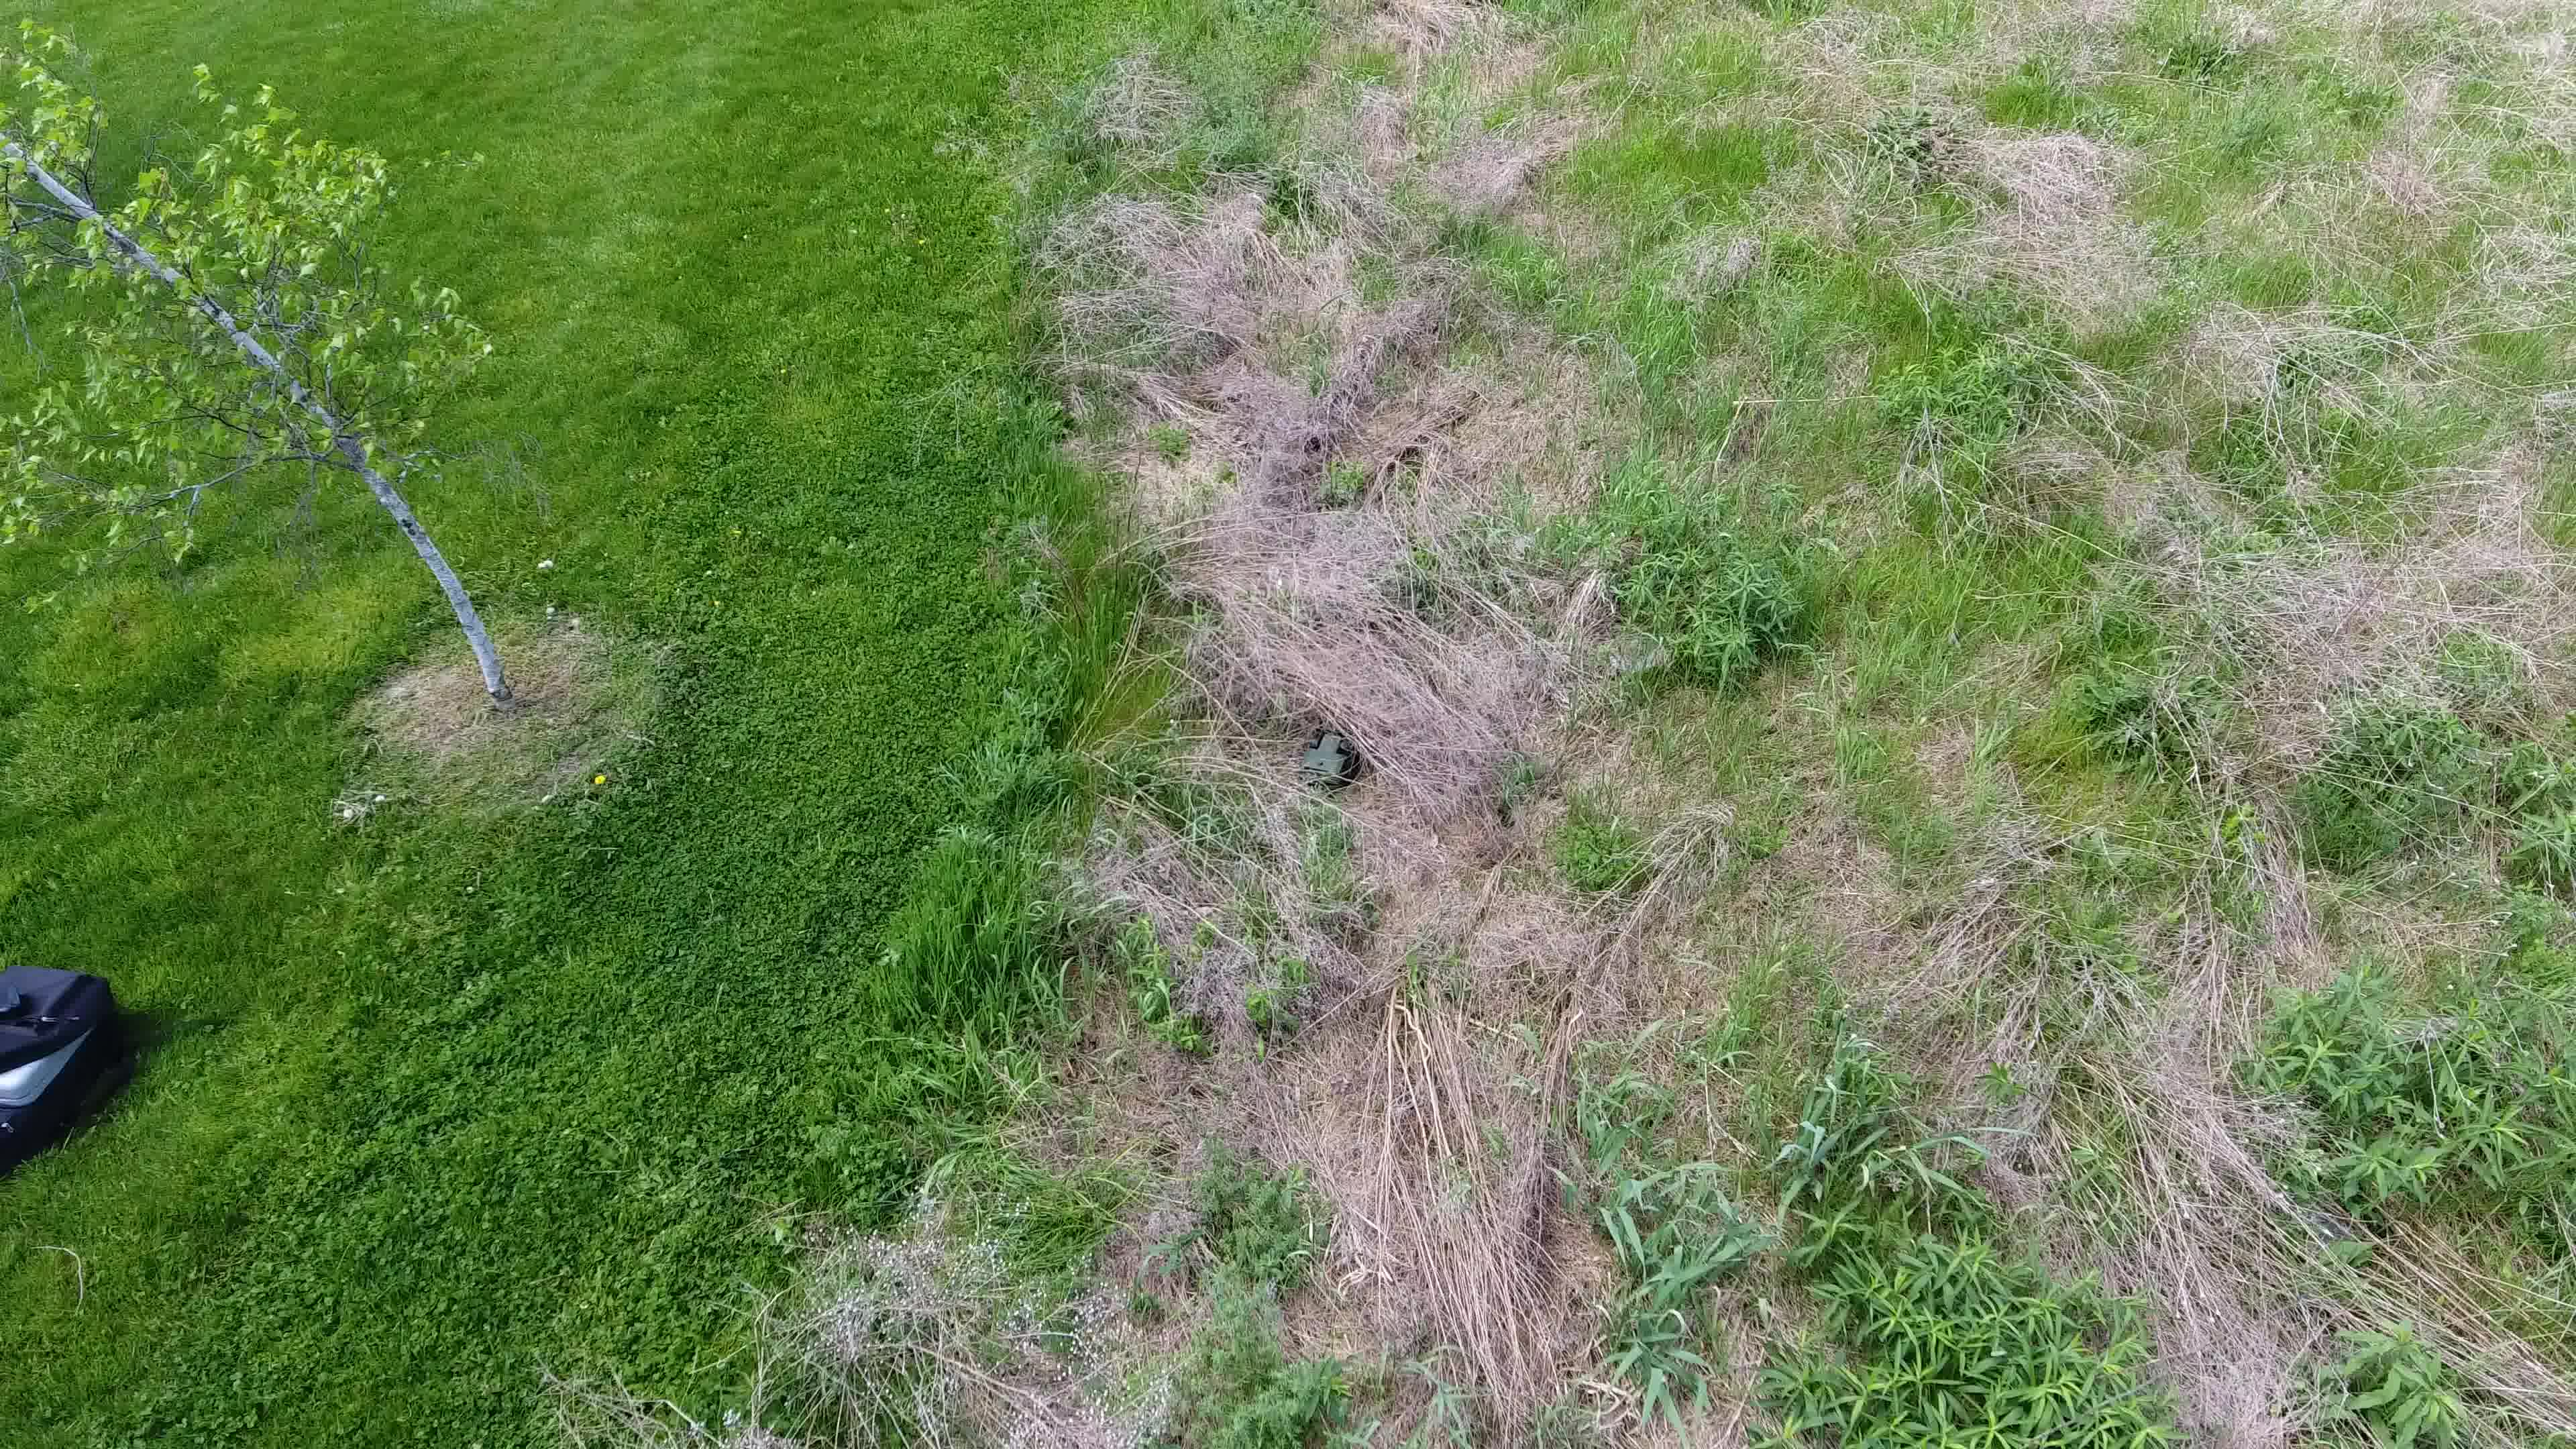transporter9: (1293, 725, 1361, 787)
